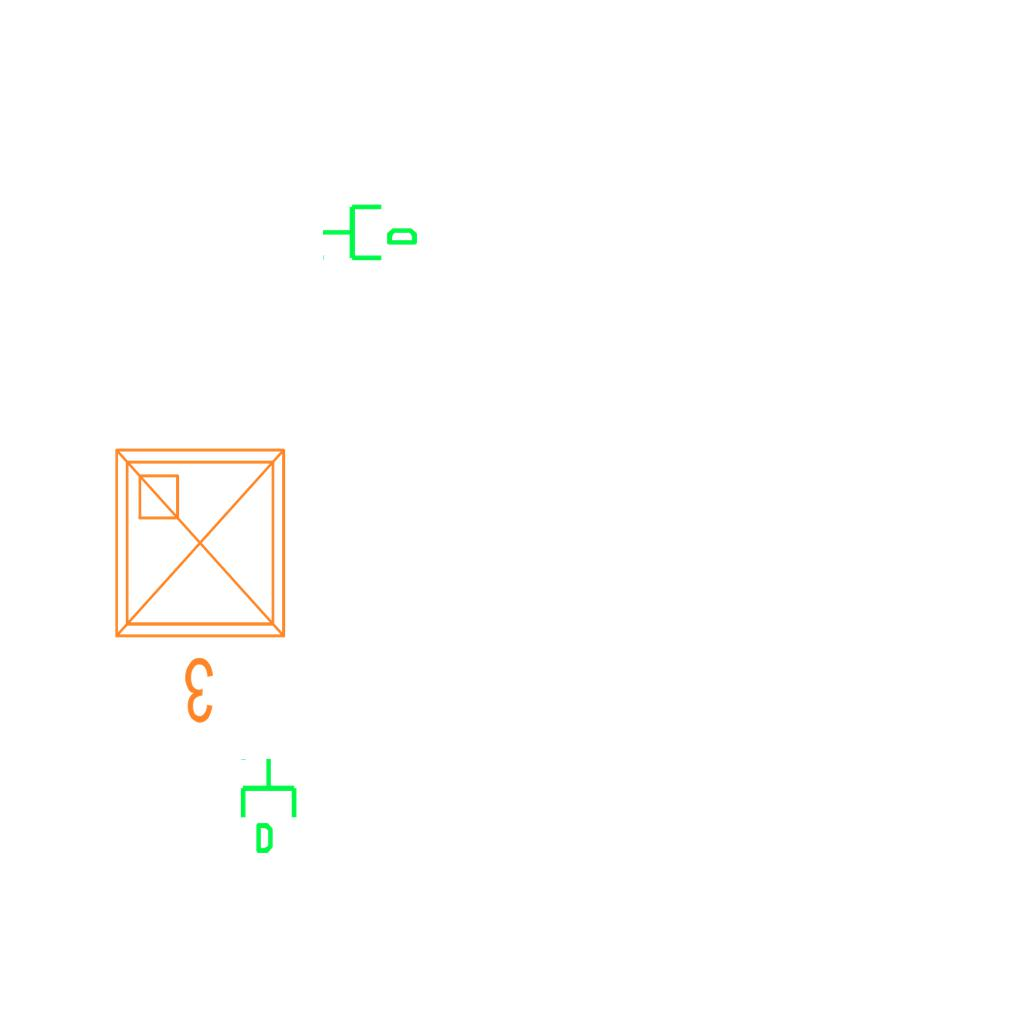Datenanschluss_einfach: (320, 196, 420, 265), (236, 756, 305, 856)
Einbaudownlights_LED_Konferenzraeume: (100, 434, 308, 734)
